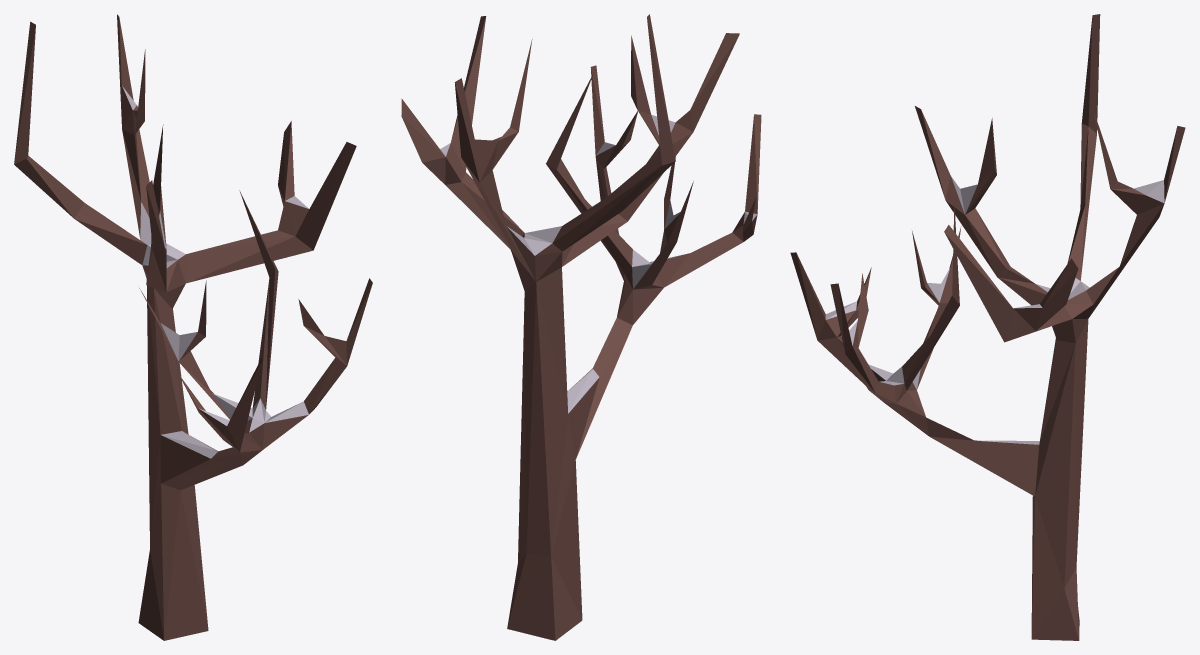
Rendered from CommonTree_Dead_Snow_2.lod3.glb.
3 renders of one model, left to right at view 1: azimuth 30°, elevation 25°; view 2: azimuth 150°, elevation 25°; view 3: azimuth 270°, elevation 25°, orthographic. The views are drawn at different scales.
Visible parts, largest first — view 1: CommonTree_Dead_Snow_2; view 2: CommonTree_Dead_Snow_2; view 3: CommonTree_Dead_Snow_2.
Part boxes in pixels (x1,y1,x2,y2): CommonTree_Dead_Snow_2: (14, 14, 372, 640); CommonTree_Dead_Snow_2: (401, 14, 761, 640); CommonTree_Dead_Snow_2: (790, 14, 1185, 640).
Size of the model in its own units: 1.33 by 2.94 by 1.87.
